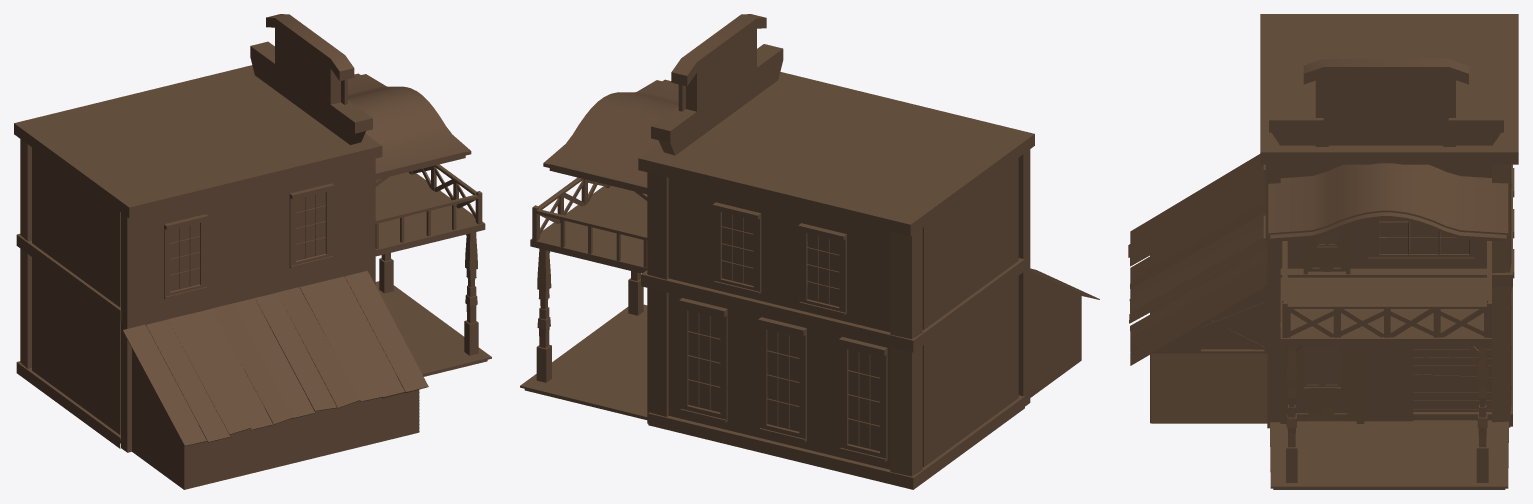
File: hardware_building.fbx
3 views of the same model, side by side, from view 1: azimuth 30°, elevation 25°; view 2: azimuth 150°, elevation 25°; view 3: azimuth 270°, elevation 25° (orthographic). The views are drawn at different scales.
Parts seen in each view (by area): view 1: hardware_build; view 2: hardware_build; view 3: hardware_build.
Part boxes in pixels (bbox=[...]): hardware_build: bbox=[14, 14, 491, 489]; hardware_build: bbox=[520, 14, 1099, 489]; hardware_build: bbox=[1128, 14, 1518, 489].
Size of the model in its own units: 16.79 by 13.83 by 13.64.
